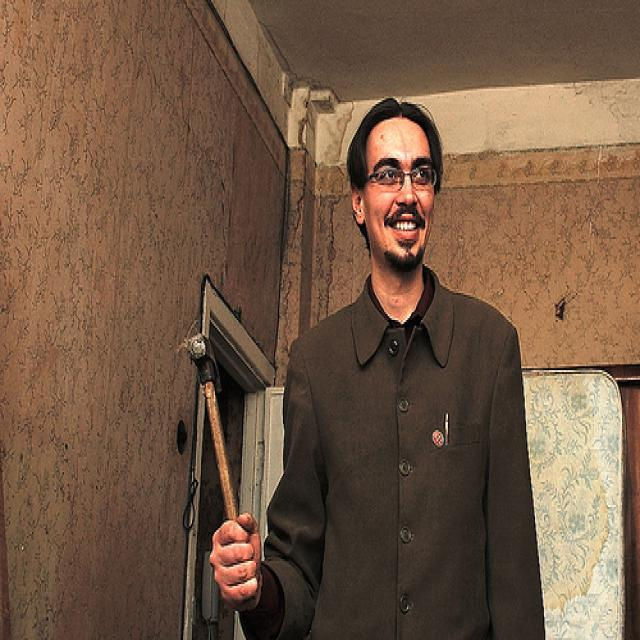screwdriver: (182, 324, 254, 560)
